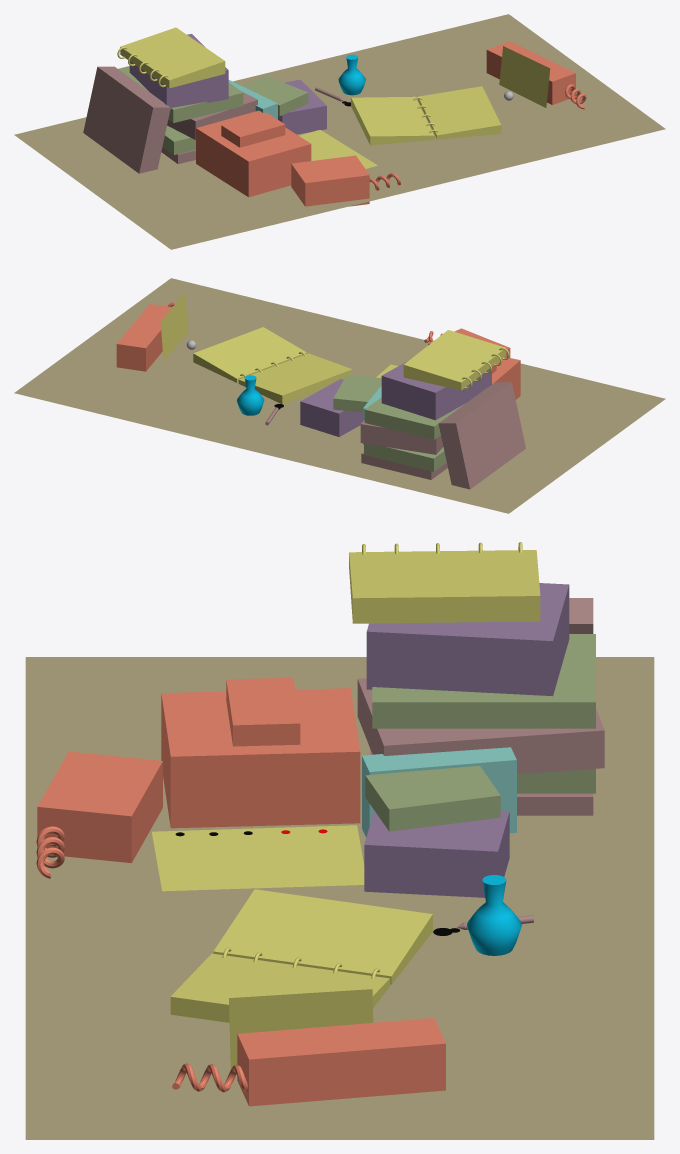
The model's file is baihe.fbx.
3 views of the same model, one above another, from view 1: azimuth 30°, elevation 25°; view 2: azimuth 150°, elevation 25°; view 3: azimuth 270°, elevation 25° (orthographic). The views are drawn at different scales.
Visible parts, largest first — view 1: pPlane1, pTorus11, pCube14, pCube22, jiaohu2, pCube27, pCube11, pPlane4, pCube26, pCube25, pCube17, pCube18 (+6 smaller); view 2: pPlane1, pTorus11, pCube14, jiaohu2, pCube11, pCube26, pCube17, pCube13, pCube8, pCube18, pCube9, pPlane4 (+3 smaller); view 3: pPlane1, pCube22, pTorus11, pCube26, pCube11, jiaohu2, pPlane3, pCube27, pCube13, pCube17, pCube8, pCube18 (+9 smaller).
Boxes of the visible parts, left/top/right/bottom form: pPlane1: left=14, top=14, right=665, bottom=249; pTorus11: left=351, top=86, right=501, bottom=145; pCube14: left=83, top=66, right=170, bottom=173; pCube22: left=196, top=110, right=311, bottom=197; jiaohu2: left=117, top=27, right=225, bottom=88; pCube27: left=291, top=155, right=369, bottom=206; pCube11: left=129, top=34, right=228, bottom=109; pPlane4: left=499, top=46, right=550, bottom=107; pCube26: left=486, top=41, right=575, bottom=104; pCube25: left=221, top=112, right=285, bottom=147; pCube17: left=278, top=79, right=326, bottom=134; pCube18: left=243, top=75, right=308, bottom=116; pPlane1: left=14, top=278, right=665, bottom=513; pTorus11: left=193, top=327, right=352, bottom=404; pCube14: left=438, top=382, right=525, bottom=489; jiaohu2: left=403, top=330, right=509, bottom=390; pCube11: left=381, top=360, right=491, bottom=420; pCube26: left=116, top=304, right=171, bottom=371; pCube17: left=300, top=379, right=362, bottom=436; pCube13: left=364, top=397, right=464, bottom=439; pCube8: left=360, top=420, right=443, bottom=454; pCube18: left=333, top=374, right=381, bottom=412; pCube9: left=364, top=443, right=446, bottom=471; pPlane4: left=160, top=292, right=188, bottom=360; pPlane1: left=25, top=657, right=654, bottom=1139; pCube22: left=161, top=688, right=360, bottom=828; pTorus11: left=170, top=889, right=432, bottom=1022; pCube26: left=237, top=1018, right=445, bottom=1106; pCube11: left=366, top=583, right=569, bottom=696; jiaohu2: left=349, top=542, right=540, bottom=623; pPlane3: left=151, top=825, right=364, bottom=891; pCube27: left=37, top=751, right=162, bottom=862; pCube13: left=372, top=634, right=595, bottom=728; pCube17: left=364, top=810, right=509, bottom=897; pCube8: left=357, top=678, right=604, bottom=774; pCube18: left=365, top=765, right=500, bottom=831.
Size of the model in its own units: 60.88 by 14.24 by 33.49.
